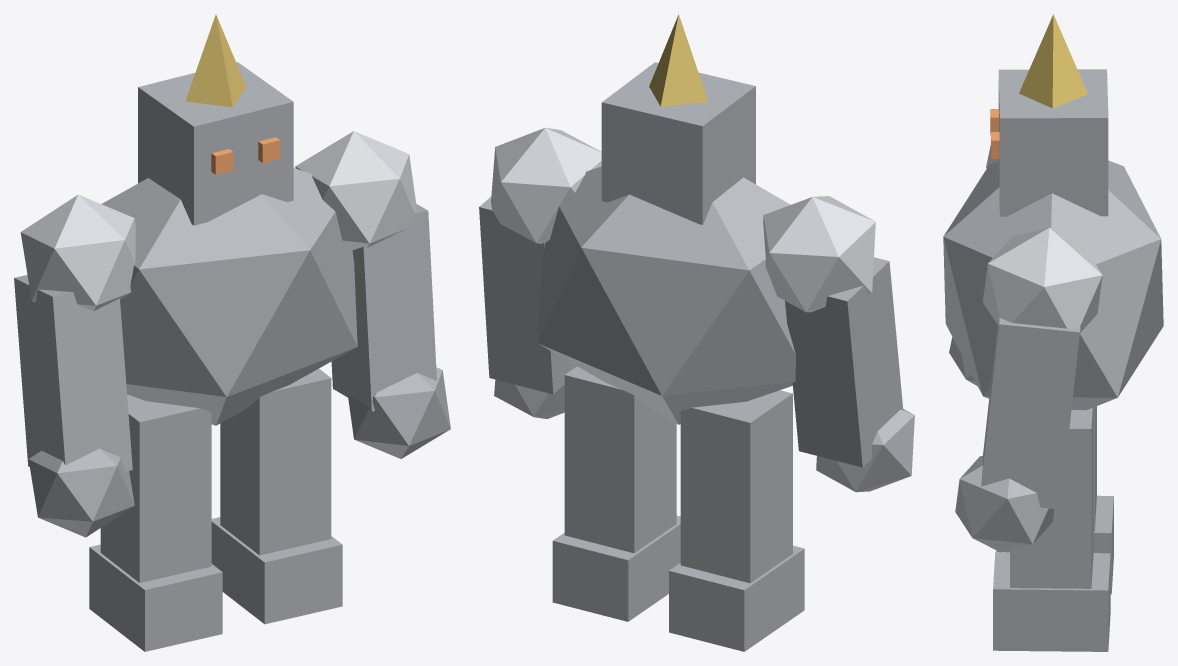
File: npcpose_golem_idle_09.glb
The picture shows the model from 3 angles, left to right: view 1: azimuth 30°, elevation 25°; view 2: azimuth 150°, elevation 25°; view 3: azimuth 270°, elevation 25°; orthographic projection.
Visible parts, largest first — view 1: npcpose; view 2: npcpose; view 3: npcpose.
Boxes of the visible parts, box(x1,y1,x2,y2) form: npcpose: box(14, 14, 450, 651); npcpose: box(479, 14, 914, 651); npcpose: box(943, 14, 1163, 651).
Bounding box in the file's own units: 1.39 × 1.92 × 0.6498.
